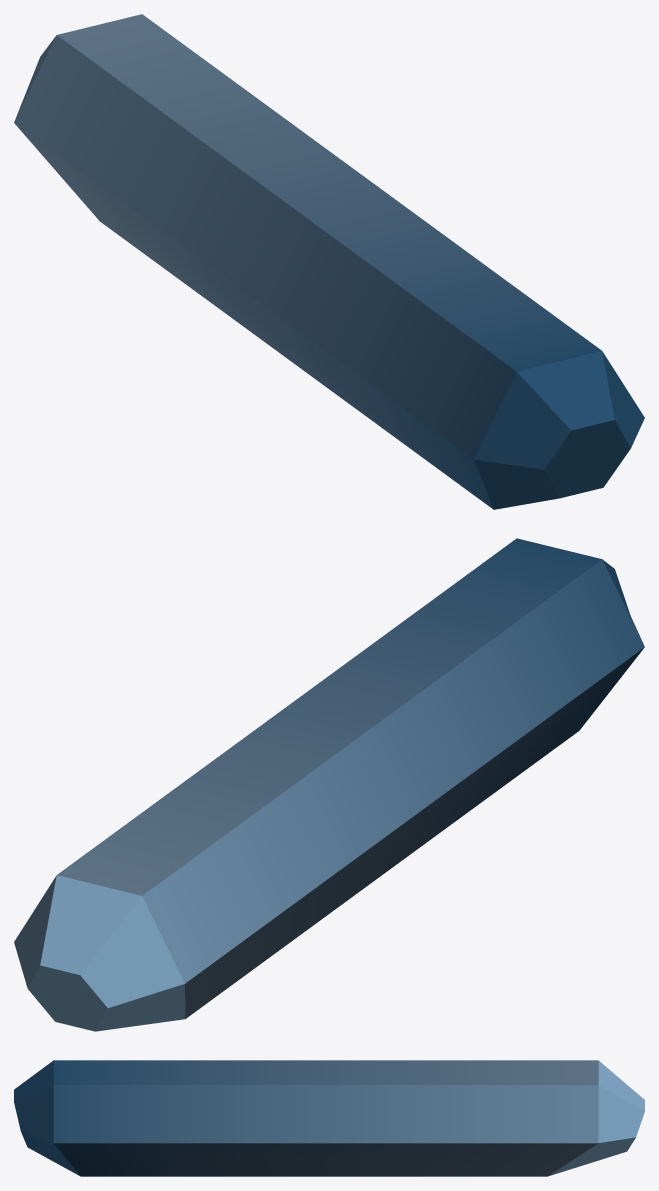
The model's file is IceCrystal.012.glb.
3 renders of one model, top to bottom at view 1: azimuth 30°, elevation 25°; view 2: azimuth 150°, elevation 25°; view 3: azimuth 270°, elevation 25°, orthographic. The views are drawn at different scales.
Parts seen in each view (by area): view 1: IceCrystal.012; view 2: IceCrystal.012; view 3: IceCrystal.012.
Part boxes in pixels (x1,y1,x2,y2): IceCrystal.012: (14, 14, 644, 509); IceCrystal.012: (14, 538, 644, 1031); IceCrystal.012: (14, 1060, 644, 1176).
Bounding box in the file's own units: 148 × 128 × 799.
